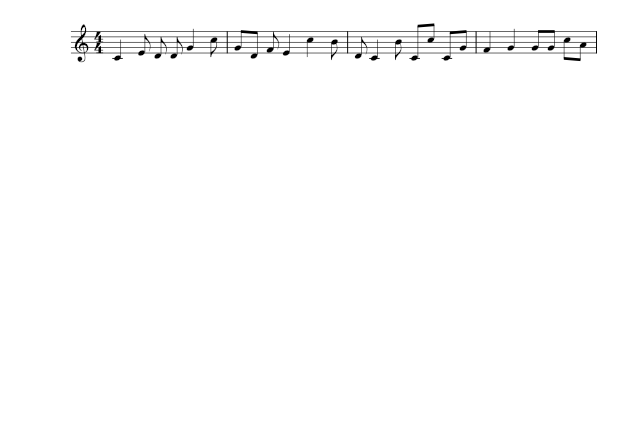Treble Clef: (71, 16, 92, 76)
